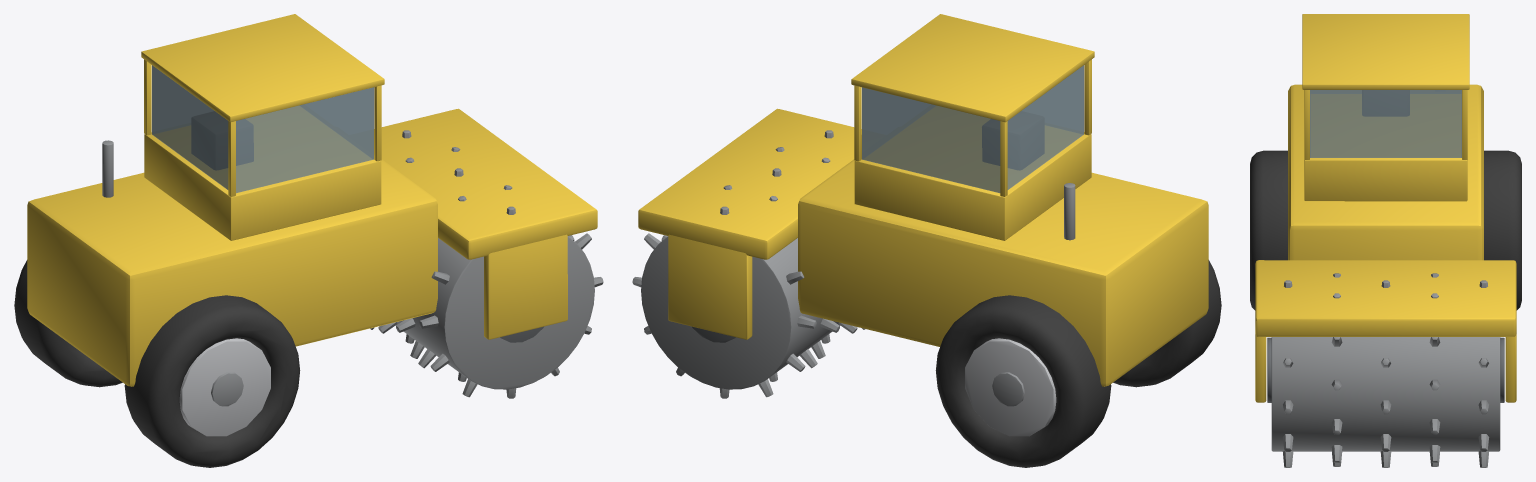
The model's file is EQP-CMP-001_lod1.glb.
3 views of the same model, side by side, from view 1: azimuth 30°, elevation 25°; view 2: azimuth 150°, elevation 25°; view 3: azimuth 270°, elevation 25° (orthographic). The views are drawn at different scales.
Visible parts, largest first — view 1: EQP-CMP-001_corpo, EQP-CMP-001_cab_base, EQP-CMP-001_garfo, EQP-CMP-001_roda-1_pneu, EQP-CMP-001_cab_teto, EQP-CMP-001_tambor_cilindro, EQP-CMP-001_cab_vidro_e, EQP-CMP-001_garfo_lado-1, EQP-CMP-001_roda-1_aro, EQP-CMP-001_cab_vidro_t, EQP-CMP-001_roda1_pneu, EQP-CMP-001_cab_banco (+5 smaller); view 2: EQP-CMP-001_corpo, EQP-CMP-001_cab_base, EQP-CMP-001_garfo, EQP-CMP-001_roda1_pneu, EQP-CMP-001_cab_teto, EQP-CMP-001_tambor_cilindro, EQP-CMP-001_cab_vidro_d, EQP-CMP-001_garfo_lado1, EQP-CMP-001_roda1_aro, EQP-CMP-001_cab_vidro_t, EQP-CMP-001_roda-1_pneu, EQP-CMP-001_cab_banco (+5 smaller); view 3: EQP-CMP-001_tambor_cilindro, EQP-CMP-001_garfo, EQP-CMP-001_cab_base, EQP-CMP-001_corpo, EQP-CMP-001_cab_teto, EQP-CMP-001_cab_vidro_f, EQP-CMP-001_roda1_pneu, EQP-CMP-001_roda-1_pneu, EQP-CMP-001, EQP-CMP-001_cab_banco, EQP-CMP-001_garfo_lado1, EQP-CMP-001_garfo_lado-1 (+4 smaller).
Part boxes in pixels (x1=…): EQP-CMP-001_corpo: x1=27, y1=154, x2=437, y2=386; EQP-CMP-001_cab_base: x1=144, y1=106, x2=381, y2=240; EQP-CMP-001_garfo: x1=374, y1=108, x2=597, y2=259; EQP-CMP-001_roda-1_pneu: x1=124, y1=295, x2=300, y2=467; EQP-CMP-001_cab_teto: x1=141, y1=14, x2=384, y2=122; EQP-CMP-001_tambor_cilindro: x1=395, y1=236, x2=594, y2=389; EQP-CMP-001_cab_vidro_e: x1=236, y1=87, x2=373, y2=193; EQP-CMP-001_garfo_lado-1: x1=484, y1=234, x2=567, y2=339; EQP-CMP-001_roda-1_aro: x1=179, y1=338, x2=270, y2=436; EQP-CMP-001_cab_vidro_t: x1=152, y1=65, x2=228, y2=189; EQP-CMP-001_roda1_pneu: x1=14, y1=260, x2=122, y2=387; EQP-CMP-001_cab_banco: x1=192, y1=111, x2=253, y2=169; EQP-CMP-001_corpo: x1=798, y1=159, x2=1208, y2=386; EQP-CMP-001_cab_base: x1=854, y1=106, x2=1091, y2=240; EQP-CMP-001_garfo: x1=638, y1=108, x2=861, y2=259; EQP-CMP-001_roda1_pneu: x1=935, y1=295, x2=1111, y2=467; EQP-CMP-001_cab_teto: x1=851, y1=14, x2=1094, y2=122; EQP-CMP-001_tambor_cilindro: x1=641, y1=236, x2=840, y2=389; EQP-CMP-001_cab_vidro_d: x1=862, y1=87, x2=1000, y2=193; EQP-CMP-001_garfo_lado1: x1=668, y1=234, x2=752, y2=339; EQP-CMP-001_roda1_aro: x1=965, y1=338, x2=1056, y2=436; EQP-CMP-001_cab_vidro_t: x1=1007, y1=65, x2=1083, y2=189; EQP-CMP-001_roda-1_pneu: x1=1113, y1=260, x2=1221, y2=387; EQP-CMP-001_cab_banco: x1=982, y1=111, x2=1043, y2=169; EQP-CMP-001_tambor_cilindro: x1=1271, y1=337, x2=1500, y2=451; EQP-CMP-001_garfo: x1=1255, y1=260, x2=1516, y2=336; EQP-CMP-001_cab_base: x1=1304, y1=94, x2=1467, y2=201; EQP-CMP-001_corpo: x1=1288, y1=84, x2=1483, y2=260; EQP-CMP-001_cab_teto: x1=1302, y1=14, x2=1469, y2=89; EQP-CMP-001_cab_vidro_f: x1=1310, y1=90, x2=1461, y2=157; EQP-CMP-001_roda1_pneu: x1=1484, y1=150, x2=1521, y2=310; EQP-CMP-001_roda-1_pneu: x1=1250, y1=150, x2=1287, y2=310; EQP-CMP-001: x1=1282, y1=273, x2=1489, y2=467; EQP-CMP-001_cab_banco: x1=1362, y1=90, x2=1409, y2=115; EQP-CMP-001_garfo_lado1: x1=1505, y1=334, x2=1516, y2=402; EQP-CMP-001_garfo_lado-1: x1=1255, y1=334, x2=1266, y2=402.
Bounding box in the file's own units: 4.7 × 3.25 × 2.5.
